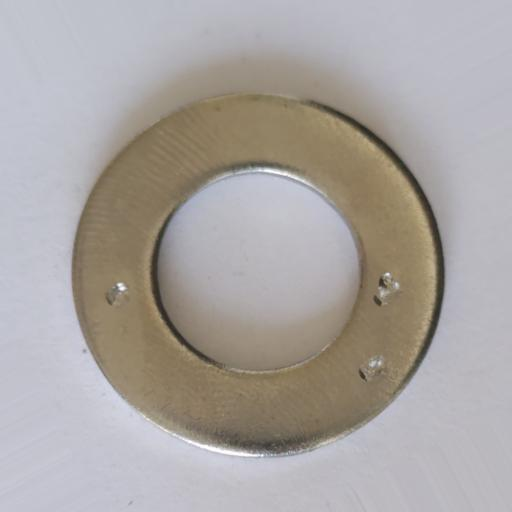circular_cavity: (373, 272, 403, 306), (358, 355, 388, 383), (106, 281, 131, 308)
